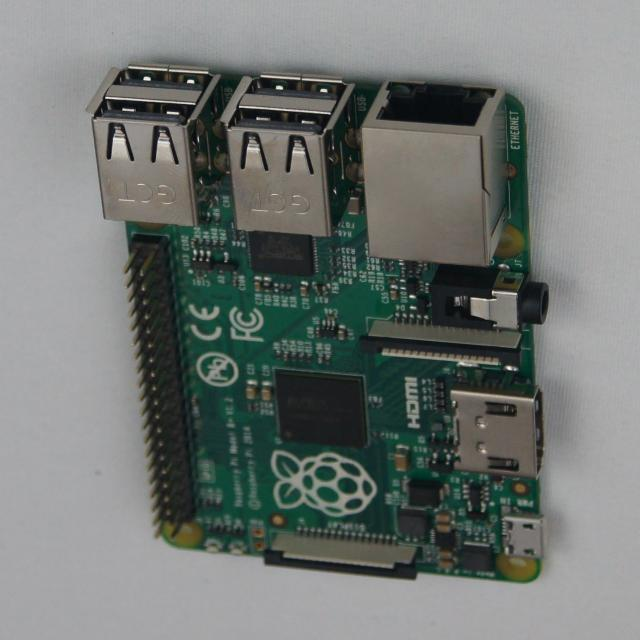Raspberry Pi 1 B-: (89, 66, 549, 582)
